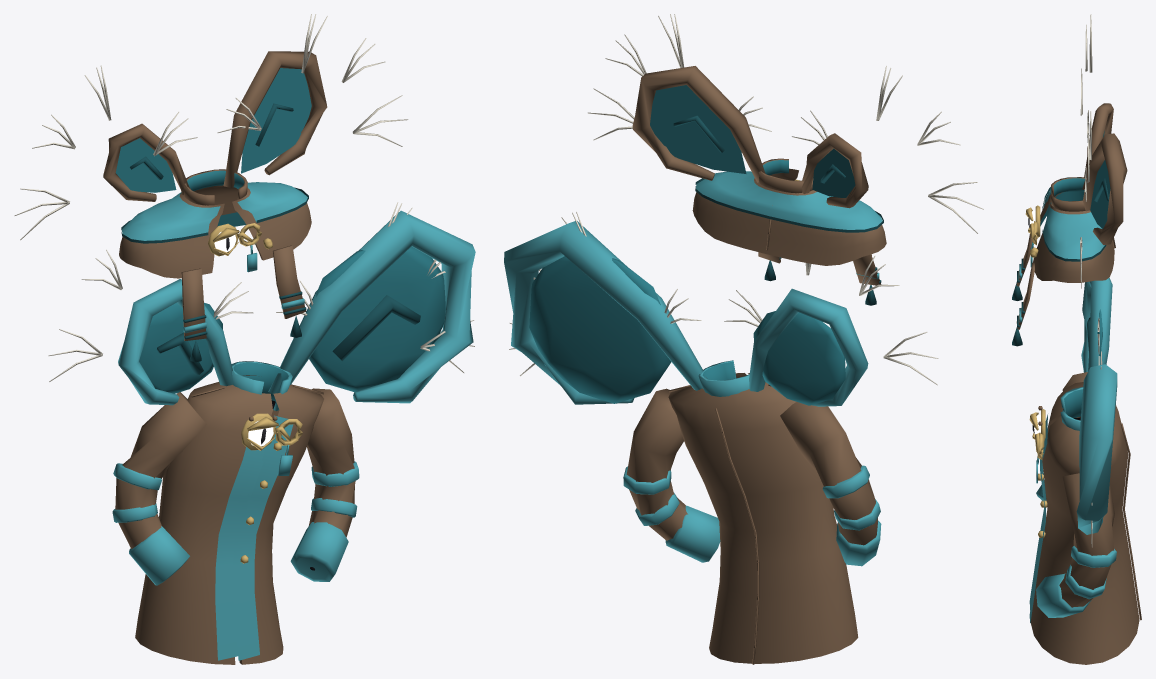
The model's file is coat-whisper-collar.glb.
The picture shows the model from 3 angles, left to right: view 1: azimuth 30°, elevation 25°; view 2: azimuth 150°, elevation 25°; view 3: azimuth 270°, elevation 25°; orthographic projection. The views are drawn at different scales.
Parts seen in each view (by area): view 1: coat-whisper-collar, coat-whisper-collar_worn; view 2: coat-whisper-collar, coat-whisper-collar_worn; view 3: coat-whisper-collar, coat-whisper-collar_worn.
Boxes of the visible parts, x1,y1,x2,y2 form: coat-whisper-collar: (48,202,475,664); coat-whisper-collar_worn: (14,14,408,340); coat-whisper-collar: (504,211,938,664); coat-whisper-collar_worn: (588,14,983,285); coat-whisper-collar: (1029,277,1141,664); coat-whisper-collar_worn: (1016,14,1127,329).
Size of the model in its own units: 2.13 by 2.69 by 0.5553.
